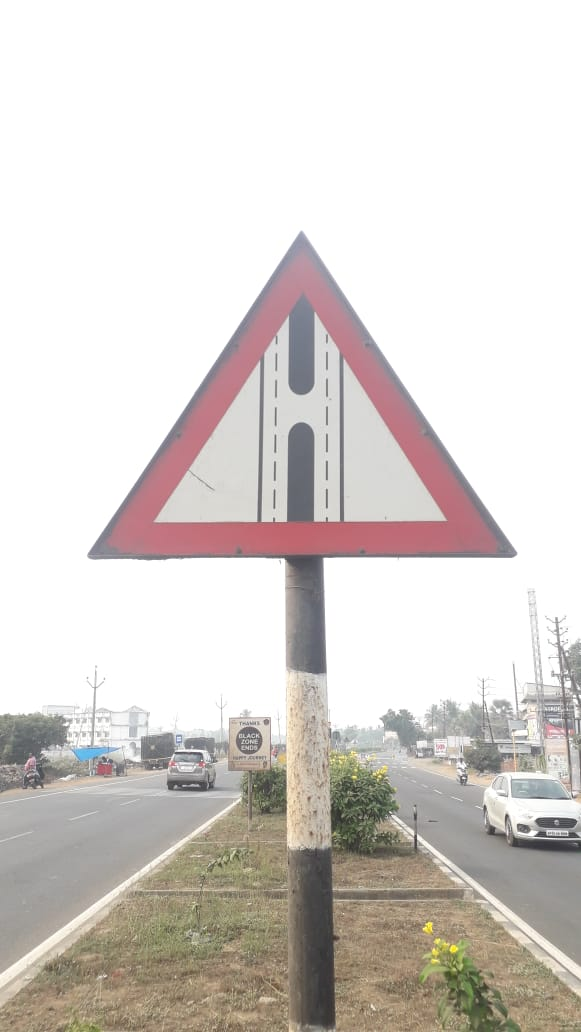highway go straight: (71, 184, 537, 629)
